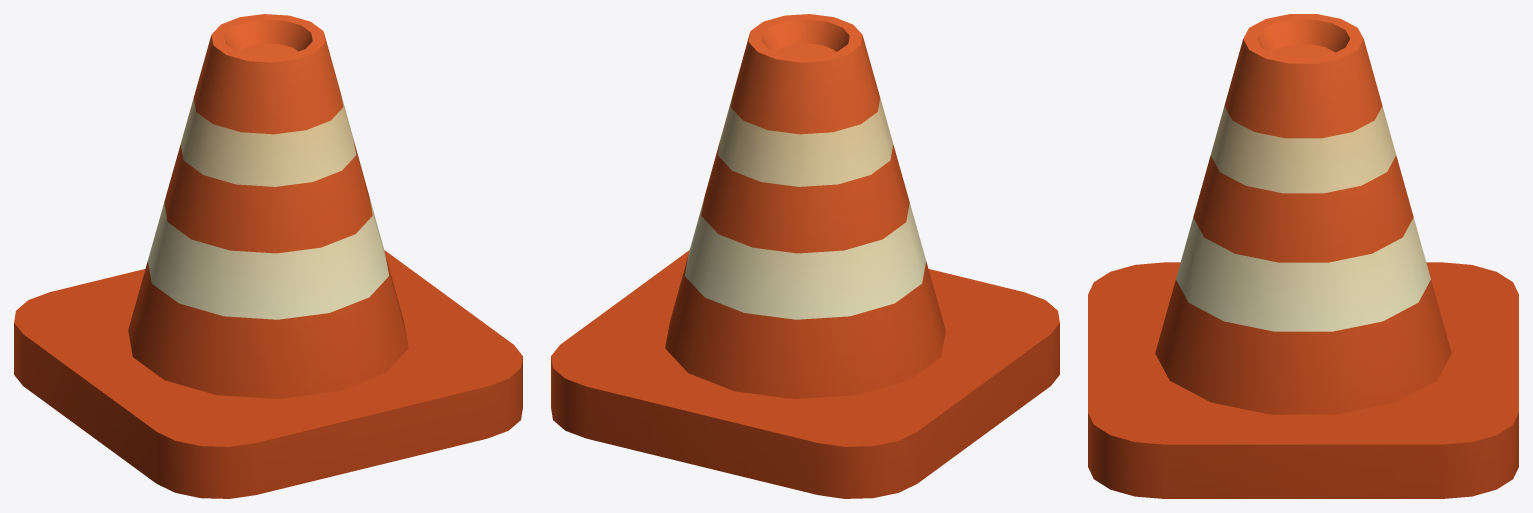
The model's file is Warning (1).glb.
3 renders of one model, left to right at view 1: azimuth 30°, elevation 25°; view 2: azimuth 150°, elevation 25°; view 3: azimuth 270°, elevation 25°, orthographic. The views are drawn at different scales.
Parts seen in each view (by area): view 1: traffic_cone; view 2: traffic_cone; view 3: traffic_cone.
Part boxes in pixels (<box>): traffic_cone: <box>14,14,522,498</box>; traffic_cone: <box>551,14,1059,498</box>; traffic_cone: <box>1088,14,1518,498</box>.
Bounding box in the file's own units: 0.6696 × 0.6329 × 0.6696.
1 material, 1 textured.
